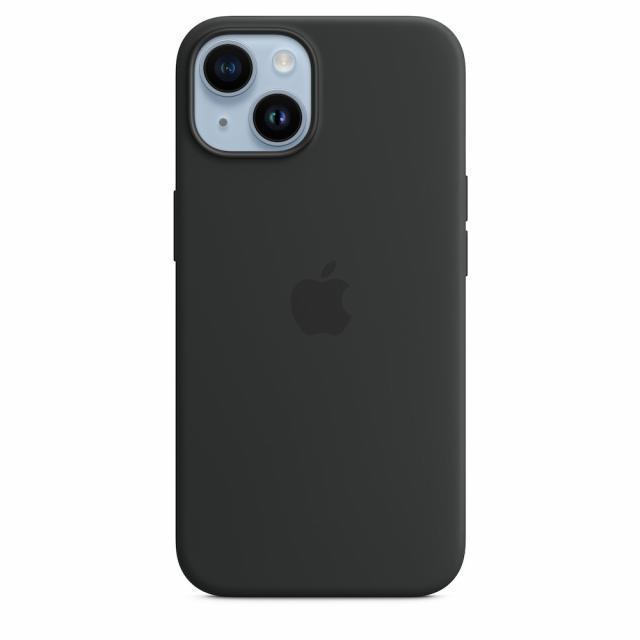phone: (172, 16, 469, 600)
